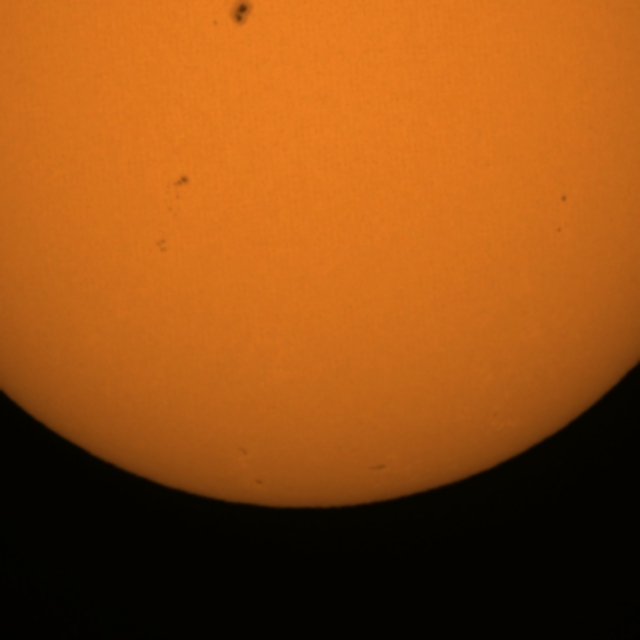sunspot: (164, 173, 191, 206), (231, 0, 253, 28), (154, 237, 169, 255), (236, 445, 250, 458), (554, 225, 564, 235), (560, 193, 568, 204), (212, 18, 220, 28), (254, 478, 264, 486)
